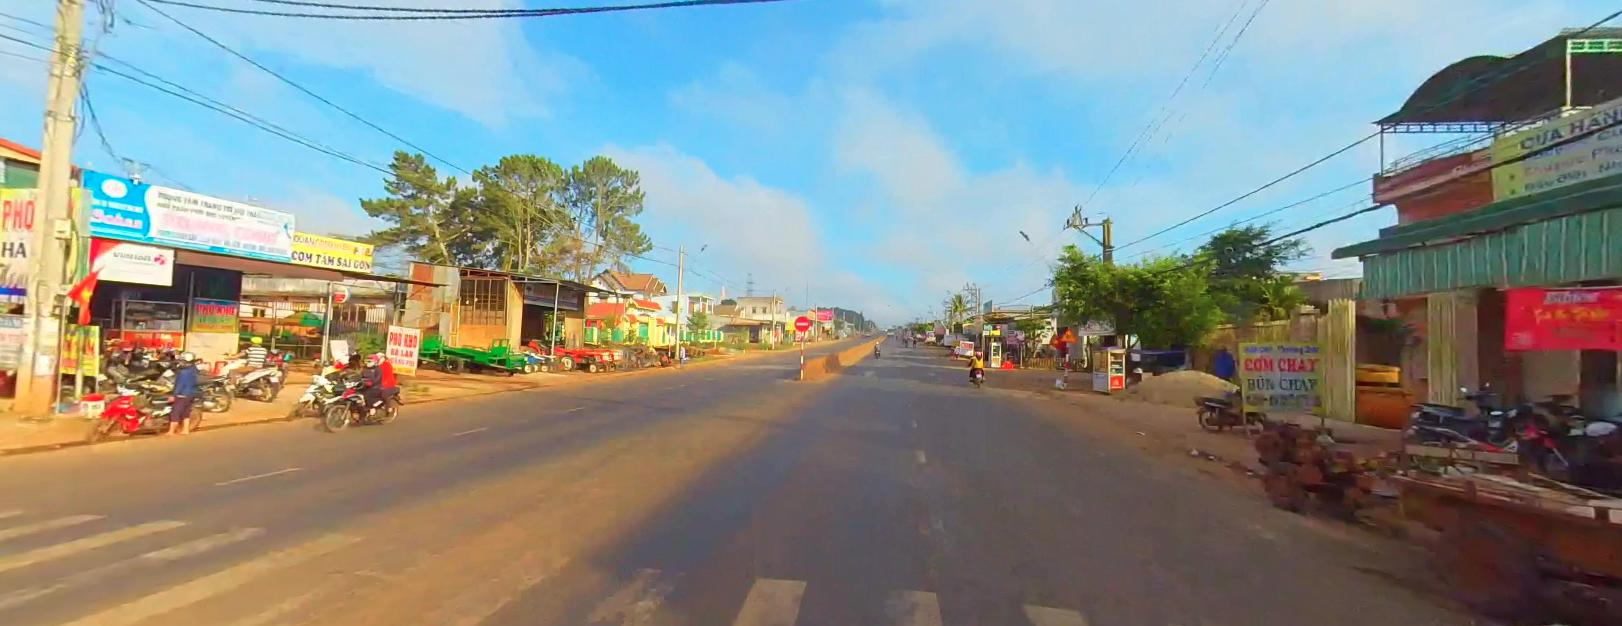Cam nguoc chieu: (795, 314, 809, 328)
Nguy hiem: (1061, 327, 1077, 340)
